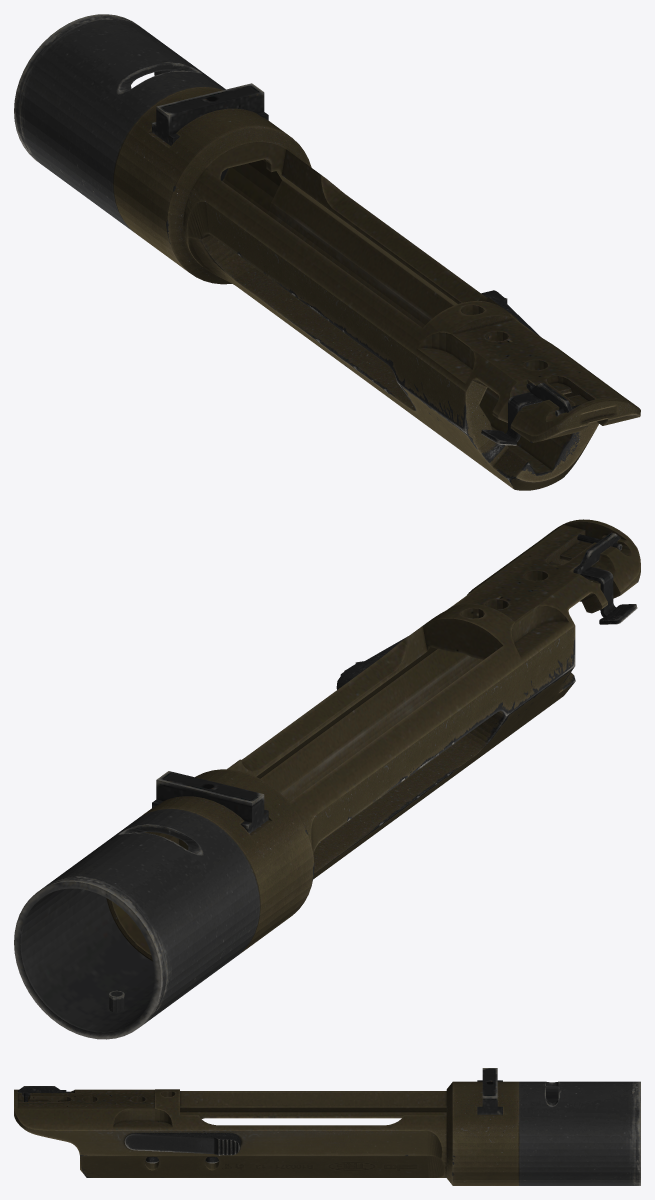
3 renders of one model, top to bottom at view 1: azimuth 30°, elevation 25°; view 2: azimuth 150°, elevation 25°; view 3: azimuth 270°, elevation 25°, orthographic. The views are drawn at different scales.
Visible parts, largest first — view 1: TW_673cb491280680de5e02ff36_PZ_Import; view 2: TW_673cb491280680de5e02ff36_PZ_Import; view 3: TW_673cb491280680de5e02ff36_PZ_Import.
Part boxes in pixels (box(x1,y1,x2,y2)): TW_673cb491280680de5e02ff36_PZ_Import: box(14, 14, 640, 490); TW_673cb491280680de5e02ff36_PZ_Import: box(14, 519, 640, 1039); TW_673cb491280680de5e02ff36_PZ_Import: box(14, 1068, 640, 1185).
Size of the model in its own units: 0.0254 by 0.1483 by 0.0257.
1 material, 1 textured.
